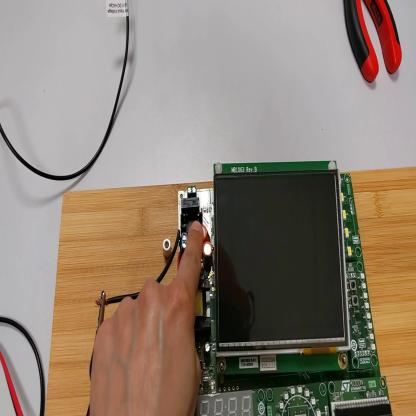hand: (91, 218, 205, 416)
low voltage board: (98, 162, 393, 416)
pliers: (346, 2, 405, 84)
working area: (46, 164, 416, 415)
